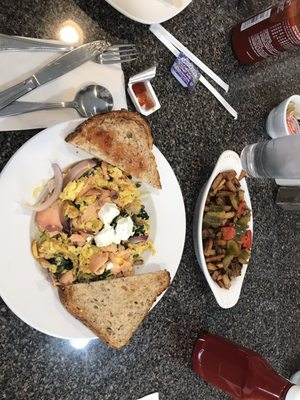sandwich: (0, 38, 116, 113)
